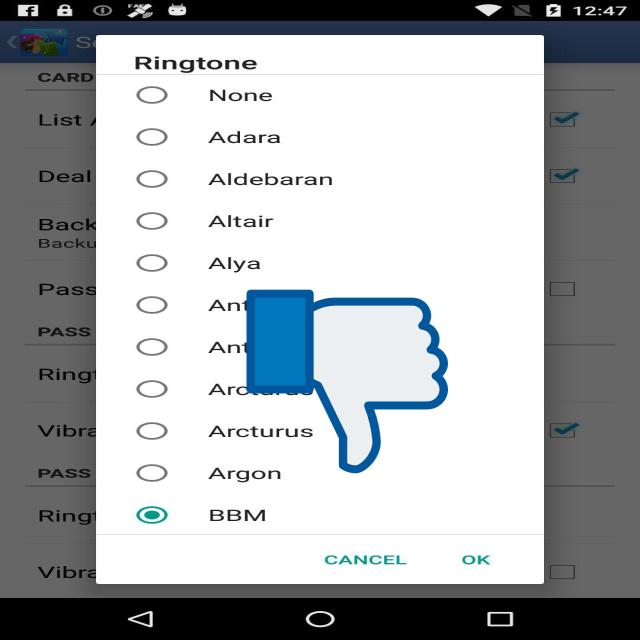obstruction: (247, 286, 448, 477)
